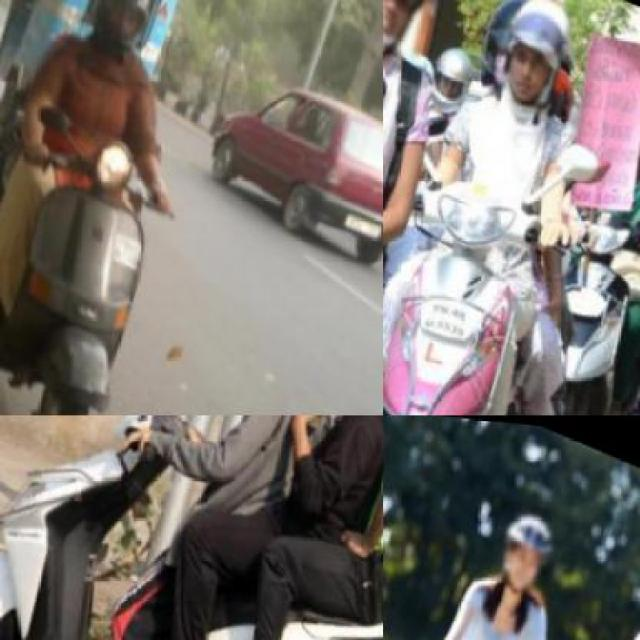With Helmet: (481, 0, 586, 112), (485, 492, 566, 597), (418, 26, 482, 116), (76, 0, 161, 58), (383, 0, 455, 62)
